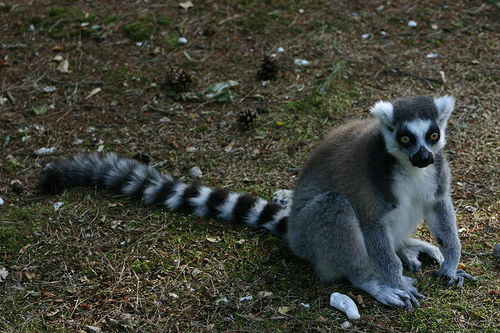cat: (38, 93, 476, 309)
